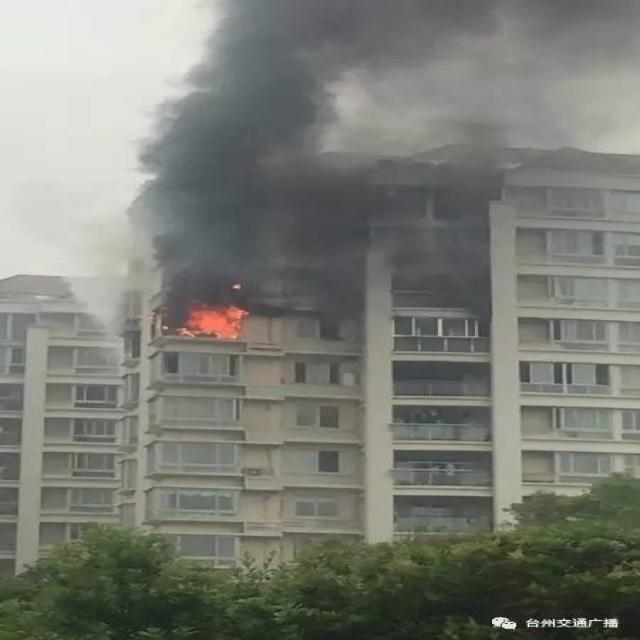Fire: (175, 302, 253, 340)
Smoke: (65, 2, 640, 340)
